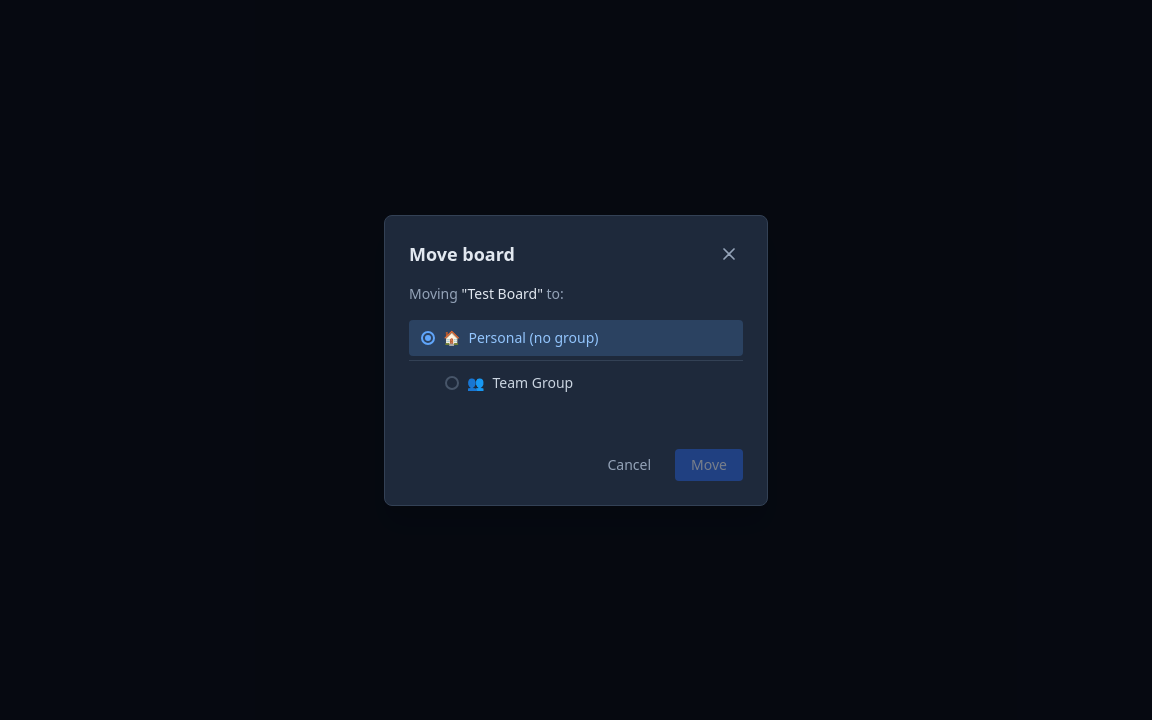
Test: MoveBoardModal › shows a generic message for a server error on a group move
This screenshot has width=1152, height=720.
Click the text "Team Group" at (533, 382), box left=492, top=372, right=573, bottom=392
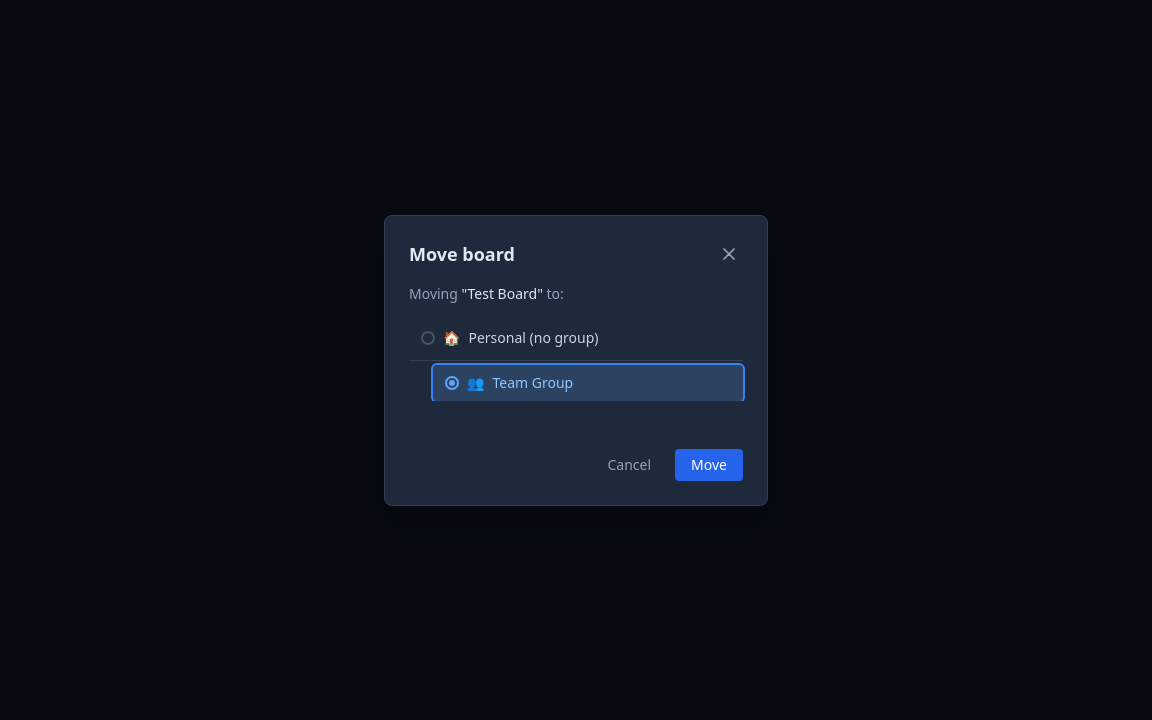
Click the button "Move" at (709, 464), box left=675, top=448, right=743, bottom=480
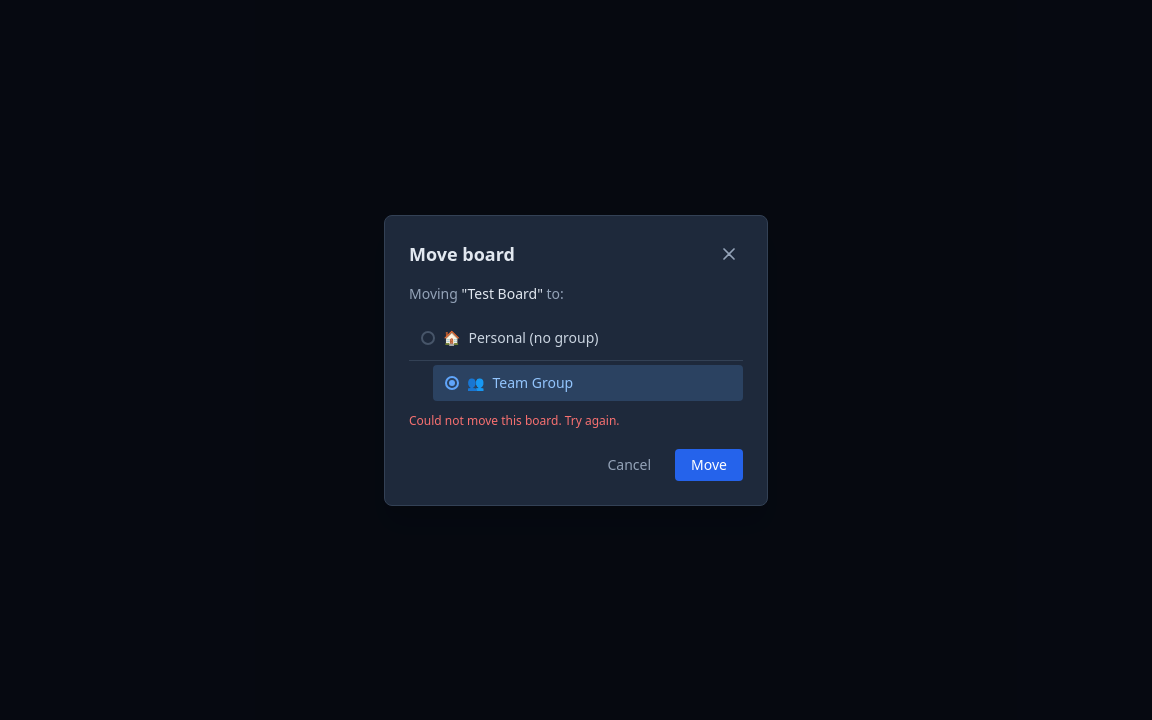
Check: the message reads "Could not move this board. Try again.", box left=409, top=412, right=620, bottom=428
